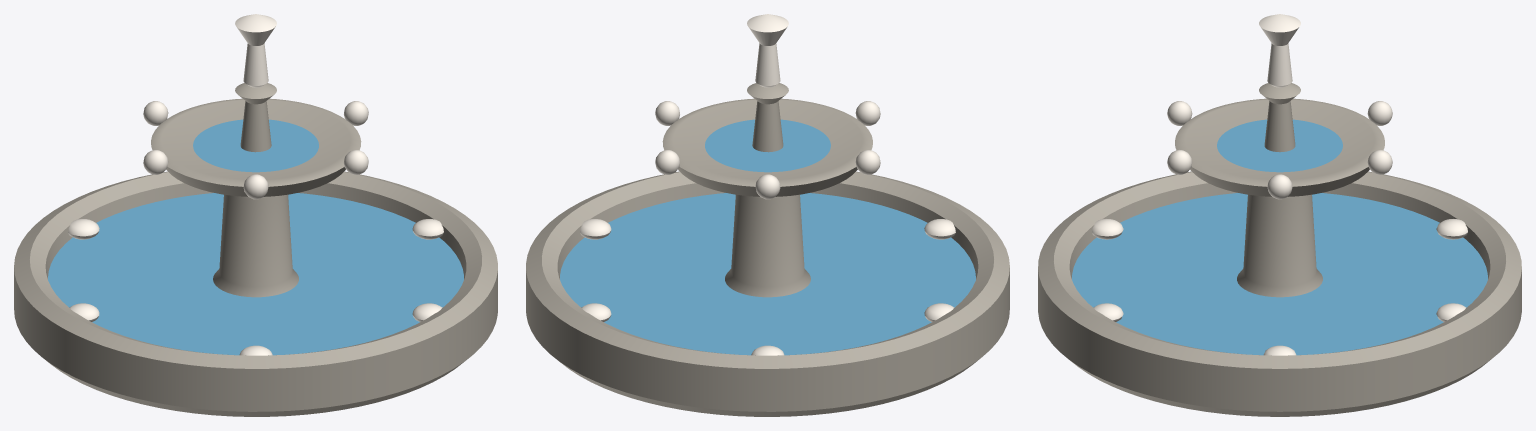
File: fountain.glb
The picture shows the model from 3 angles, left to right: view 1: azimuth 30°, elevation 25°; view 2: azimuth 150°, elevation 25°; view 3: azimuth 270°, elevation 25°; orthographic projection.
Visible parts, largest first — view 1: fountain.008, water.022; view 2: fountain.008, water.022; view 3: fountain.008, water.022.
Boxes of the visible parts, left/top/right/bottom form: fountain.008: left=14, top=83, right=497, bottom=416; water.022: left=68, top=14, right=443, bottom=355; fountain.008: left=526, top=83, right=1009, bottom=416; water.022: left=580, top=14, right=955, bottom=355; fountain.008: left=1038, top=83, right=1521, bottom=416; water.022: left=1092, top=14, right=1467, bottom=355.
Size of the model in its own units: 4.6 by 3.2 by 4.6.
1 material, 1 textured.
